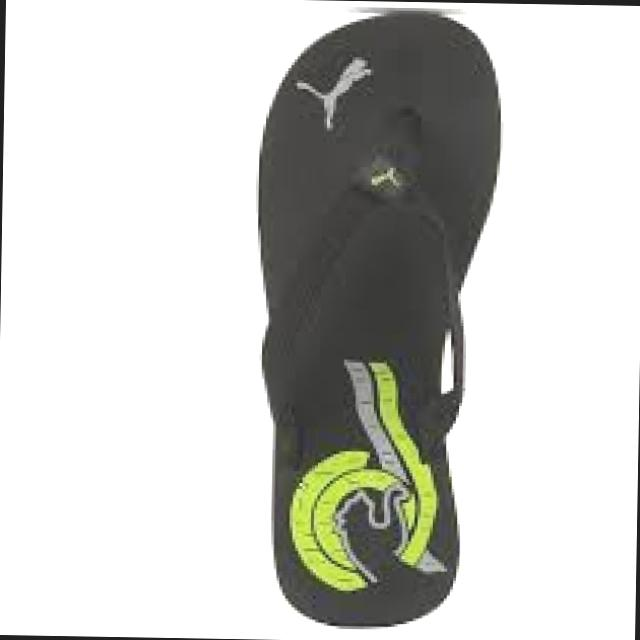giay: (262, 12, 504, 625)
